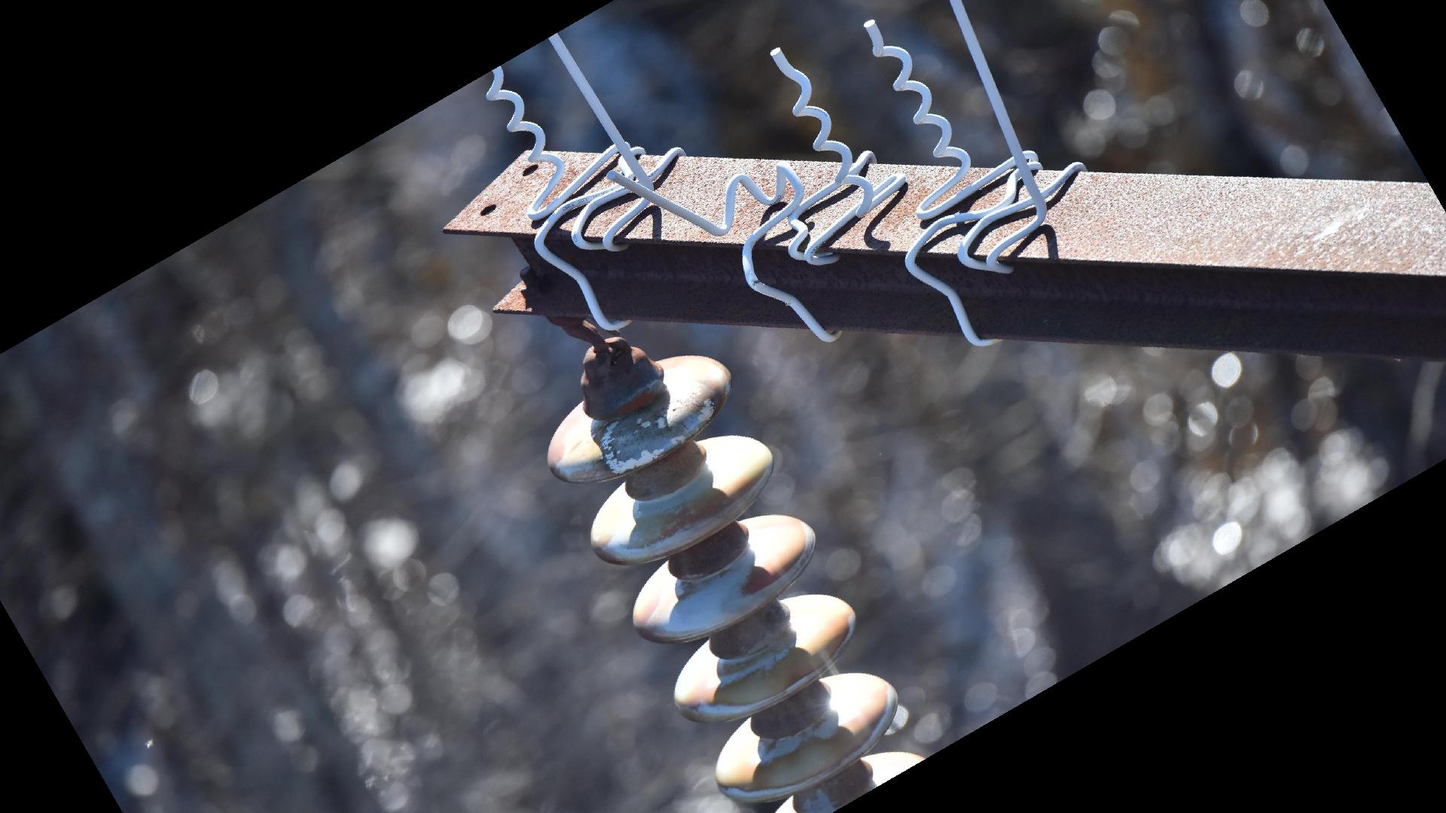insulator: (541, 349, 924, 813)
insulator_flashover: (600, 379, 718, 477)
